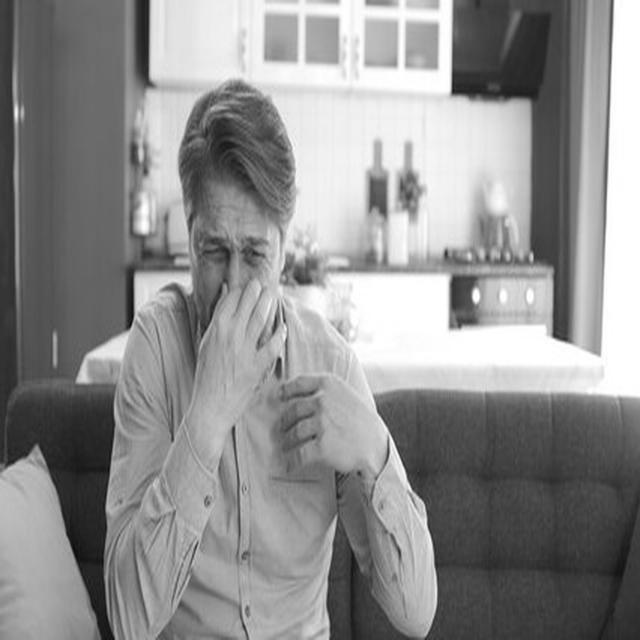Disgust: (189, 173, 282, 378)
